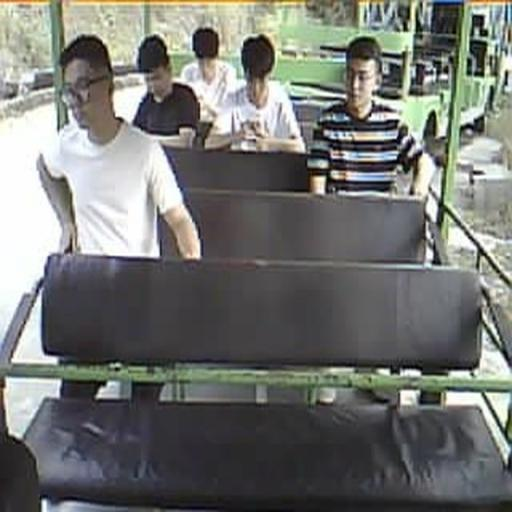persona: (37, 33, 202, 260), (307, 34, 425, 197), (209, 33, 306, 154), (130, 34, 201, 140), (179, 26, 237, 119)
